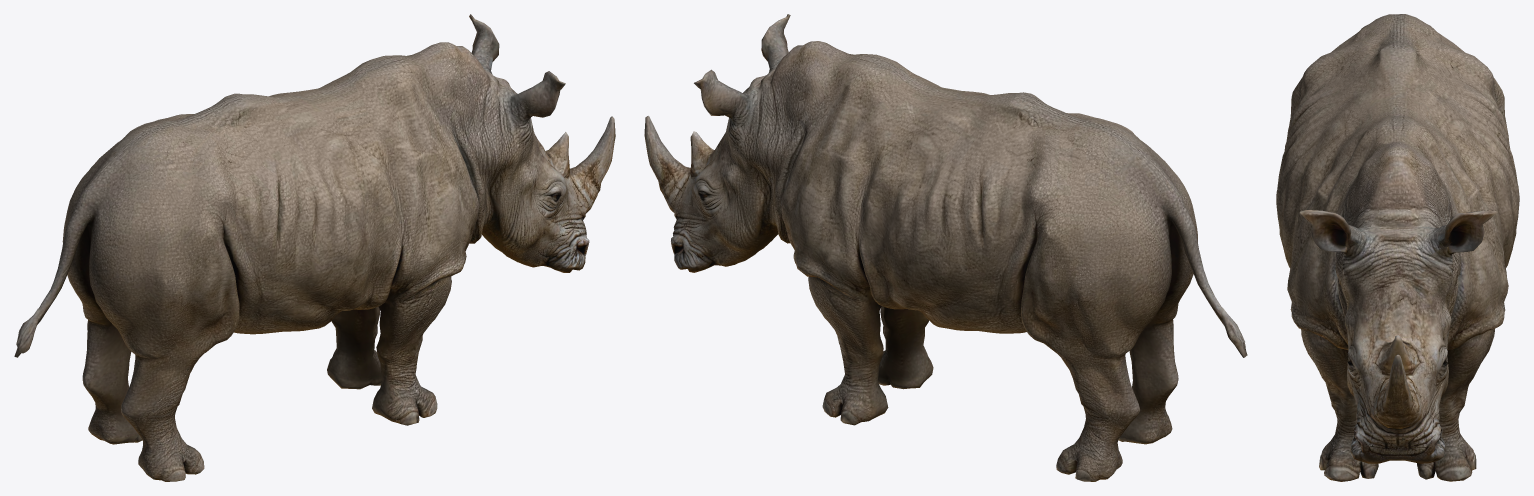
File: rhino.glb
3 views of the same model, side by side, from view 1: azimuth 30°, elevation 25°; view 2: azimuth 150°, elevation 25°; view 3: azimuth 270°, elevation 25° (orthographic). The views are drawn at different scales.
Visible parts, largest first — view 1: tripo_node_be1f5ae5-fe43-4aef-a314-b7edae98e94d; view 2: tripo_node_be1f5ae5-fe43-4aef-a314-b7edae98e94d; view 3: tripo_node_be1f5ae5-fe43-4aef-a314-b7edae98e94d.
Boxes of the visible parts, bbox=[...] form: tripo_node_be1f5ae5-fe43-4aef-a314-b7edae98e94d: bbox=[14, 14, 615, 481]; tripo_node_be1f5ae5-fe43-4aef-a314-b7edae98e94d: bbox=[644, 14, 1247, 481]; tripo_node_be1f5ae5-fe43-4aef-a314-b7edae98e94d: bbox=[1276, 14, 1519, 481].
Bounding box in the file's own units: 1 × 0.5395 × 0.3357.
Materials: 1 (1 with a texture image).
